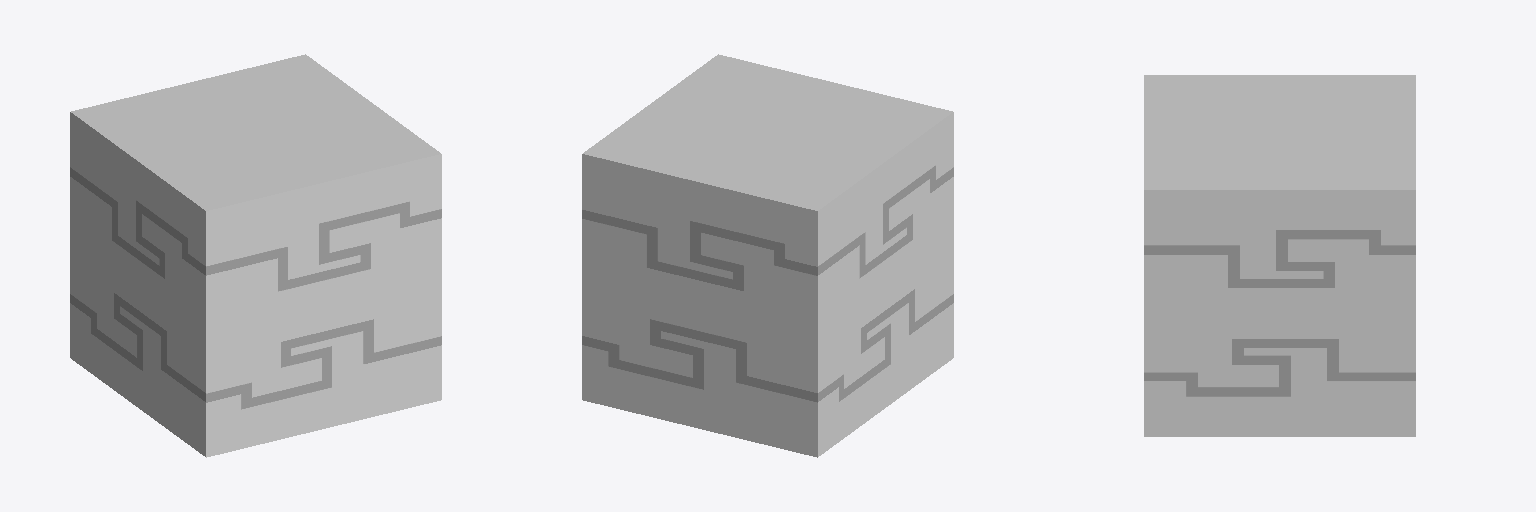
The picture shows the model from 3 angles: view 1: azimuth 30°, elevation 25°; view 2: azimuth 150°, elevation 25°; view 3: azimuth 270°, elevation 25°; orthographic projection.
Visible parts, largest first — view 1: Cube.001_Cube.000; view 2: Cube.001_Cube.000; view 3: Cube.001_Cube.000.
Part boxes in pixels (x1,y1,x2,y2): Cube.001_Cube.000: (70, 54, 441, 457); Cube.001_Cube.000: (582, 54, 953, 457); Cube.001_Cube.000: (1144, 75, 1415, 436).
Bounding box in the file's own units: 1 × 1 × 1.
2 materials, 1 textured.